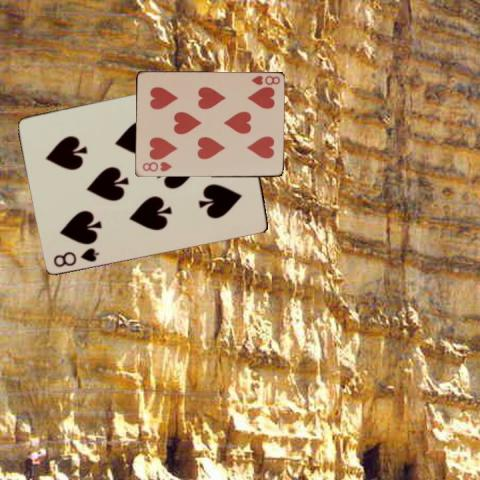8h: (140, 158, 174, 172), (248, 72, 281, 86)
8s: (50, 244, 100, 269)
